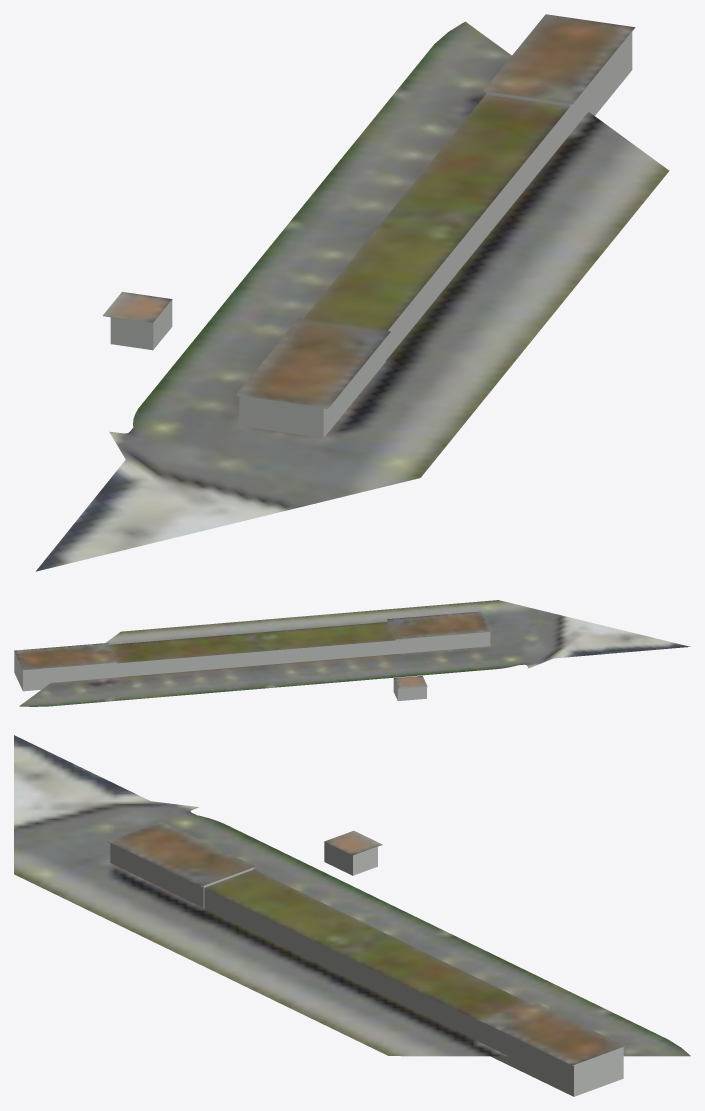
The model's file is LSMP_1_2.glb.
The picture shows the model from 3 angles, top to bottom: view 1: azimuth 30°, elevation 25°; view 2: azimuth 150°, elevation 25°; view 3: azimuth 270°, elevation 25°; orthographic projection. The views are drawn at different scales.
Parts seen in each view (by area): view 1: pavement_LSMP_pavement_5121_2378, building_02783e98a1f7d697, building_c50535bb1384f799; view 2: pavement_LSMP_pavement_5121_2378, building_02783e98a1f7d697, building_c50535bb1384f799; view 3: pavement_LSMP_pavement_5121_2378, building_02783e98a1f7d697, building_c50535bb1384f799.
Boxes of the visible parts, x1,y1,x2,y2 form: pavement_LSMP_pavement_5121_2378: [36, 21, 669, 571]; building_02783e98a1f7d697: [102, 14, 635, 408]; building_c50535bb1384f799: [110, 32, 632, 437]; pavement_LSMP_pavement_5121_2378: [19, 600, 690, 706]; building_02783e98a1f7d697: [14, 611, 490, 689]; building_c50535bb1384f799: [14, 621, 490, 700]; pavement_LSMP_pavement_5121_2378: [14, 735, 690, 1056]; building_02783e98a1f7d697: [107, 821, 624, 1065]; building_c50535bb1384f799: [110, 842, 623, 1096].
Size of the model in its own units: 283 by 11.97 by 229.
3 materials, 2 textured.
